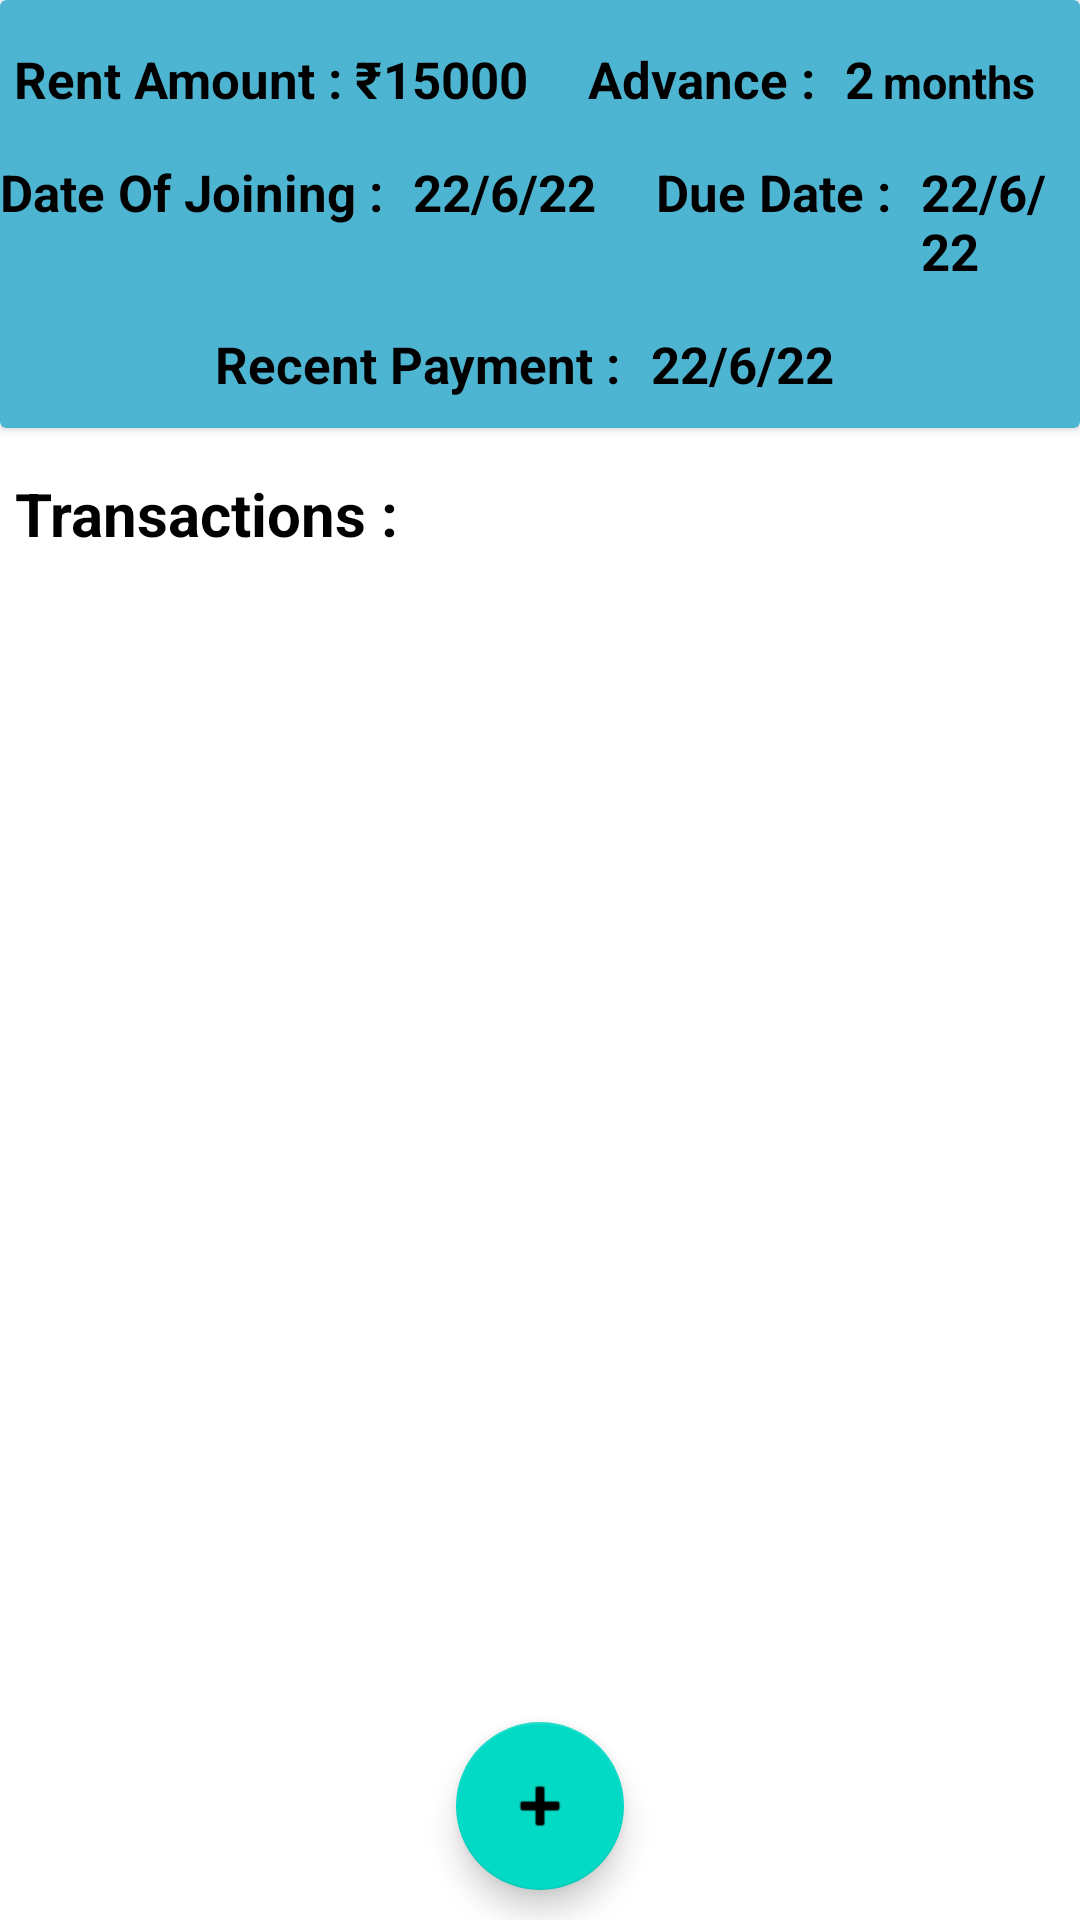

Locate icon controls on the screen. Image size 1080x1920, boxes as (x1, y1, x2, y2).
add transaction: (456, 1722, 624, 1890)
